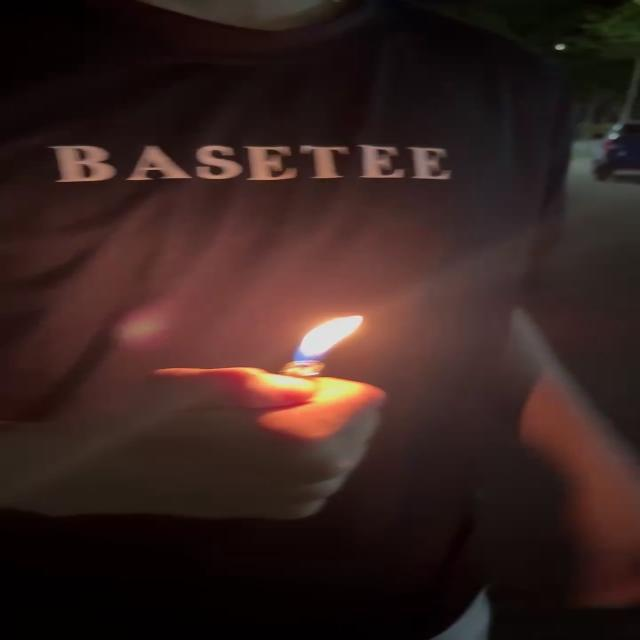Fire: (284, 310, 371, 368)
